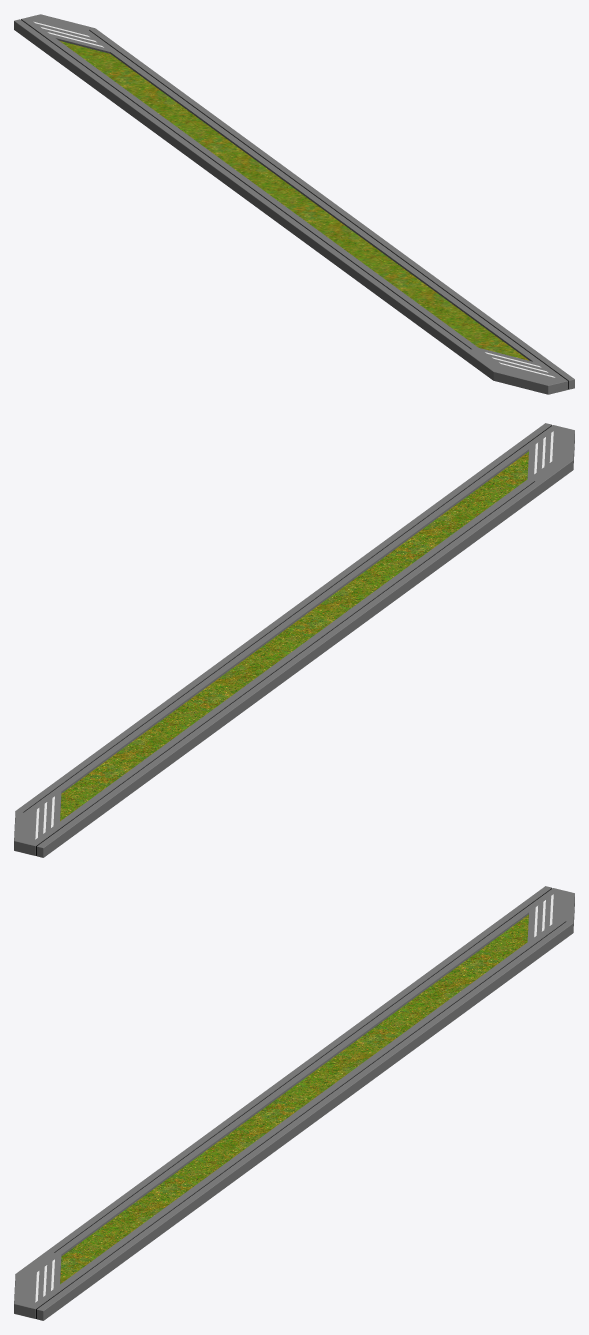
The model's file is W_O_Playground_Glassbed_001_L0.fbx.
3 views of the same model, one above another, from view 1: azimuth 30°, elevation 25°; view 2: azimuth 150°, elevation 25°; view 3: azimuth 330°, elevation 25° (orthographic). The views are drawn at different scales.
Parts seen in each view (by area): view 1: W_O_Playground_Glassbed_001_L0; view 2: W_O_Playground_Glassbed_001_L0; view 3: W_O_Playground_Glassbed_001_L0.
Part boxes in pixels (bbox=[...]): W_O_Playground_Glassbed_001_L0: bbox=[14, 14, 574, 394]; W_O_Playground_Glassbed_001_L0: bbox=[14, 423, 574, 857]; W_O_Playground_Glassbed_001_L0: bbox=[14, 886, 574, 1320].
Size of the model in its own units: 0.4839 by 0.0801 by 7.94.
